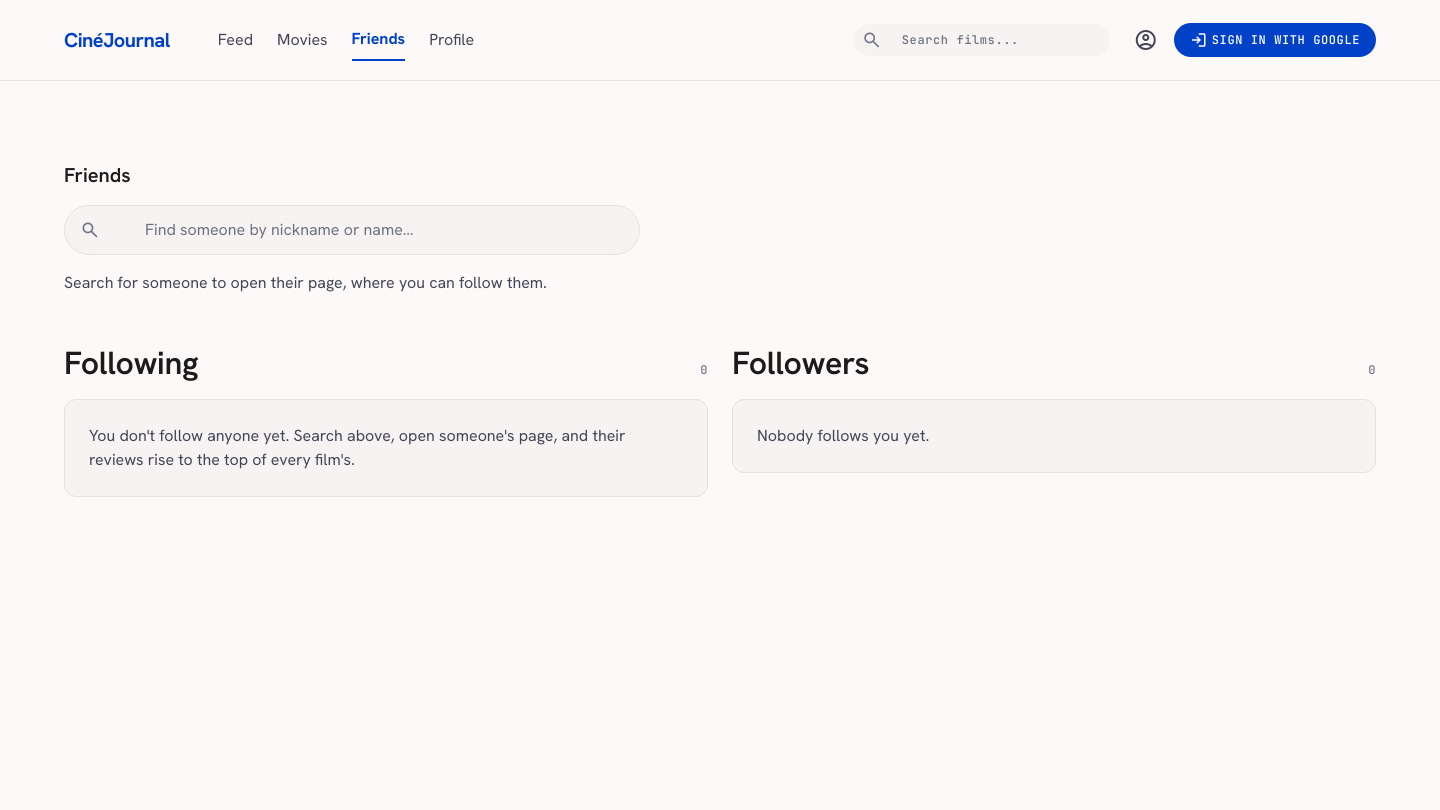
Test: the friend directory › adds someone followed from the search results to the Following list
The image size is (1440, 810).
Type "elena" into the search field named "Search people by nickname" at (352, 230), box [64,205,640,255]
Then press Enter
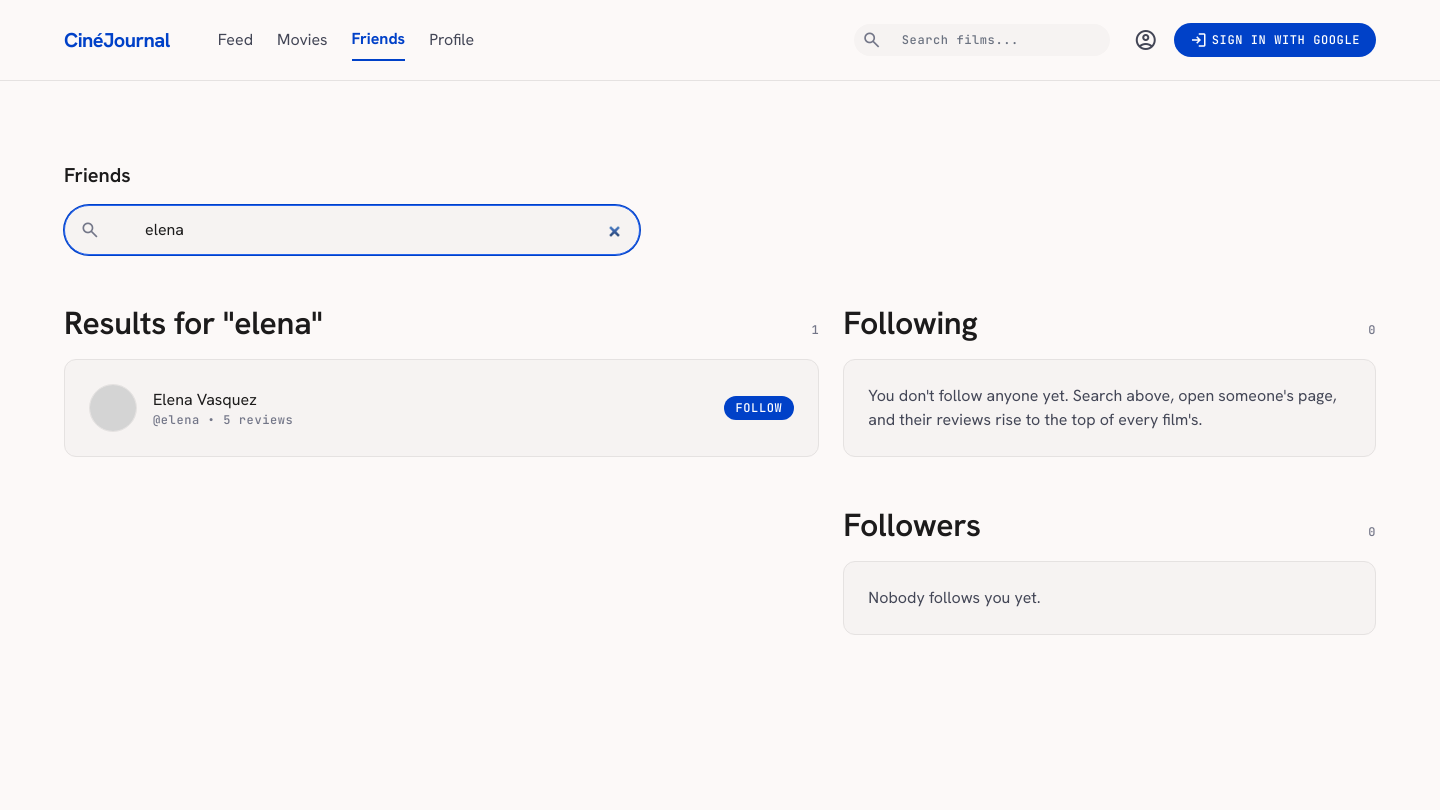
Result: the link "Elena Vasquez" is shown at [153,388,257,412]
Click the button "Follow" at (759, 408), box [724,396,794,420]
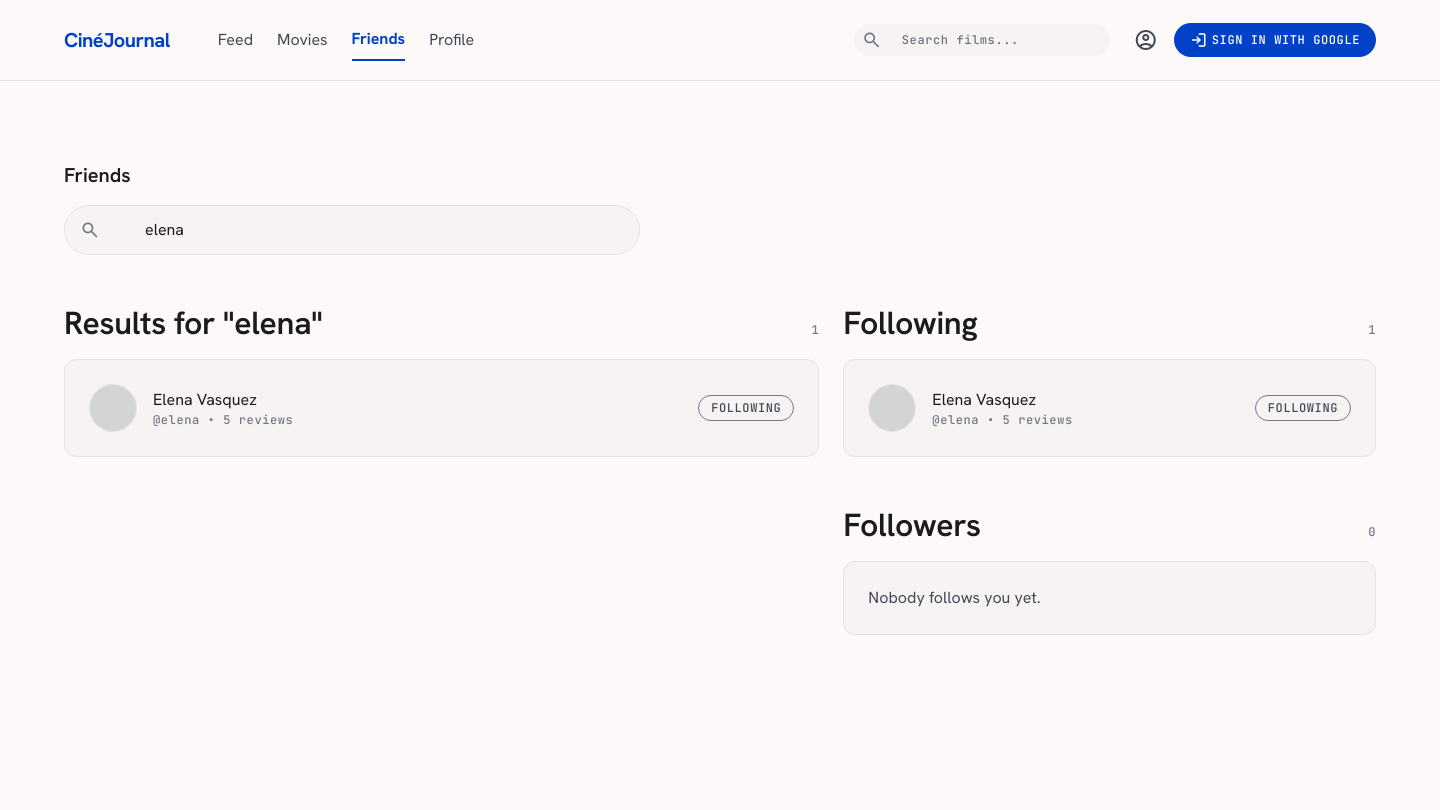
Result: the number of links "Elena Vasquez" is 2 at [153,388,257,412]; [932,388,1036,412]
Result: the number of buttons "Following" is 2 at [698,395,794,421]; [1255,395,1351,421]
